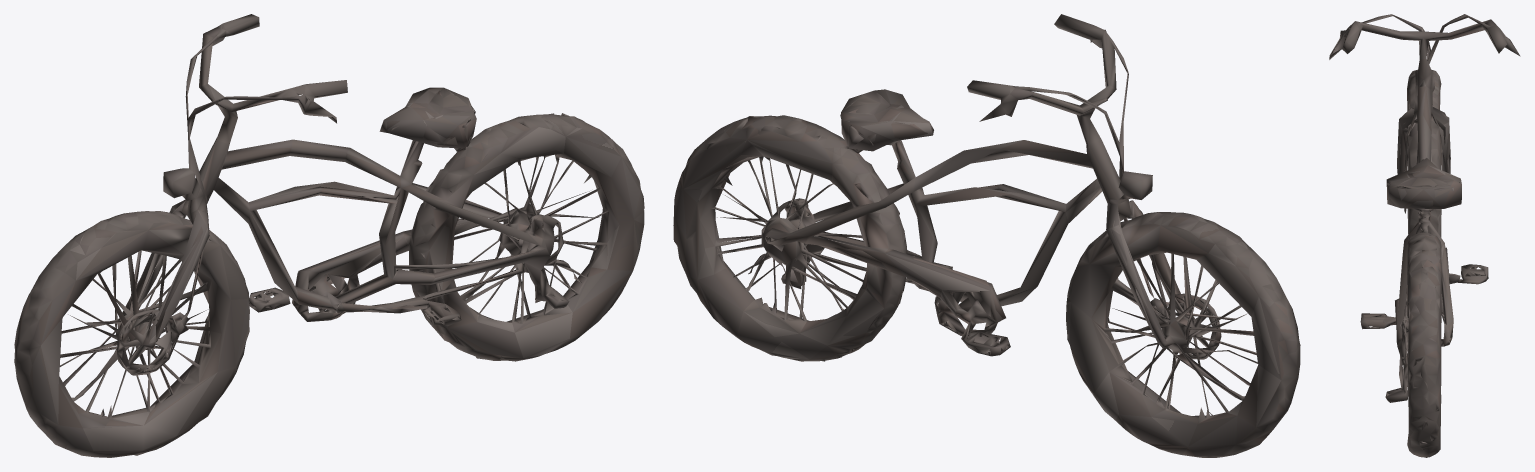
File: bike1.glb
3 views of the same model, side by side, from view 1: azimuth 30°, elevation 25°; view 2: azimuth 150°, elevation 25°; view 3: azimuth 270°, elevation 25° (orthographic). The views are drawn at different scales.
Visible parts, largest first — view 1: LO.001; view 2: LO.001; view 3: LO.001.
Boxes of the visible parts, x1,y1,x2,y2 form: LO.001: (14, 14, 644, 457); LO.001: (673, 14, 1300, 457); LO.001: (1329, 14, 1520, 457).
Bounding box in the file's own units: 1.9 × 1.07 × 0.5955.
Materials: 1 (1 with a texture image).
